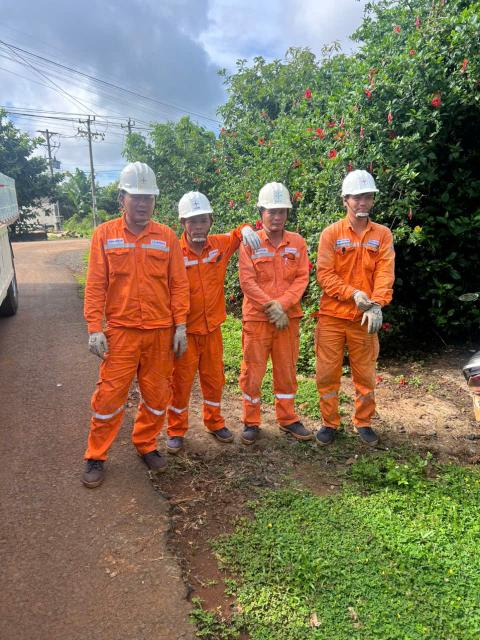gloves: (80, 332, 117, 366), (358, 302, 387, 332), (172, 314, 192, 355), (344, 285, 374, 312), (266, 306, 292, 333), (264, 298, 283, 322)
helmet: (118, 155, 167, 207), (335, 162, 379, 200), (252, 178, 295, 213), (177, 186, 213, 221)
shoes: (273, 415, 313, 447), (303, 412, 336, 448), (347, 420, 378, 452), (83, 455, 112, 488), (138, 442, 167, 472), (234, 415, 260, 448), (205, 419, 236, 445), (167, 422, 181, 454)
